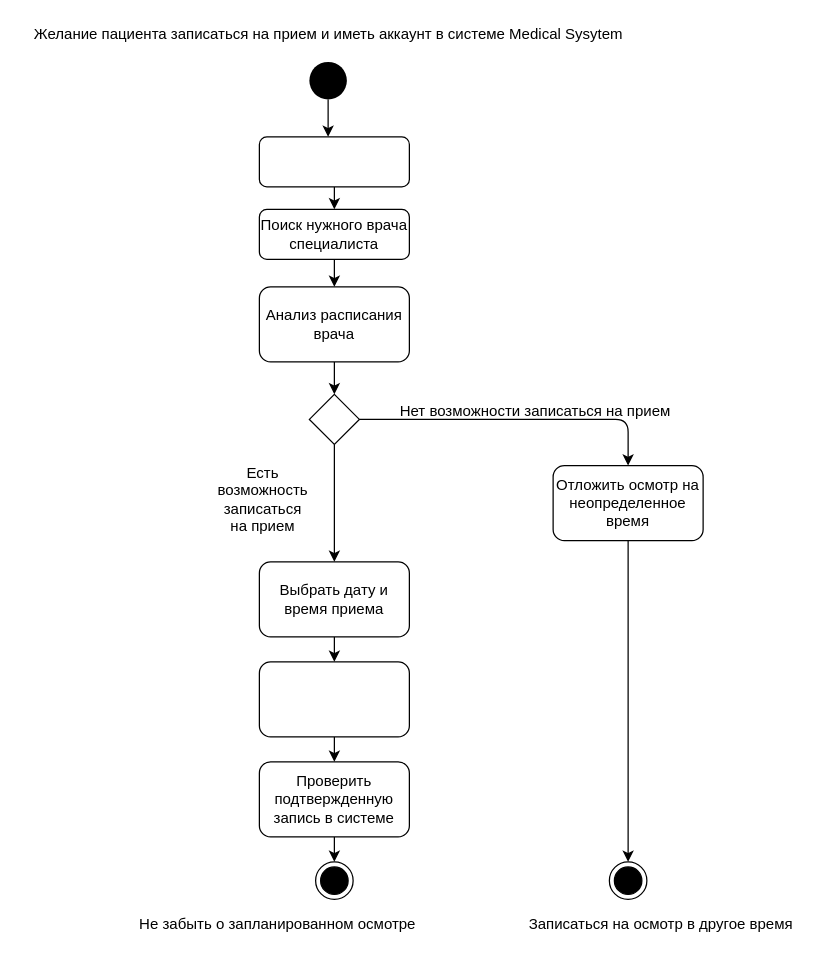
Some shapes in this 825 by 958 pixel diagram are drawn without their labels. Each missing label, with the centre of its shape:
"Зайти на сайт или в приложение" belongs at (333,161).
"Подтвердить запись на прием" belongs at (333,699).
